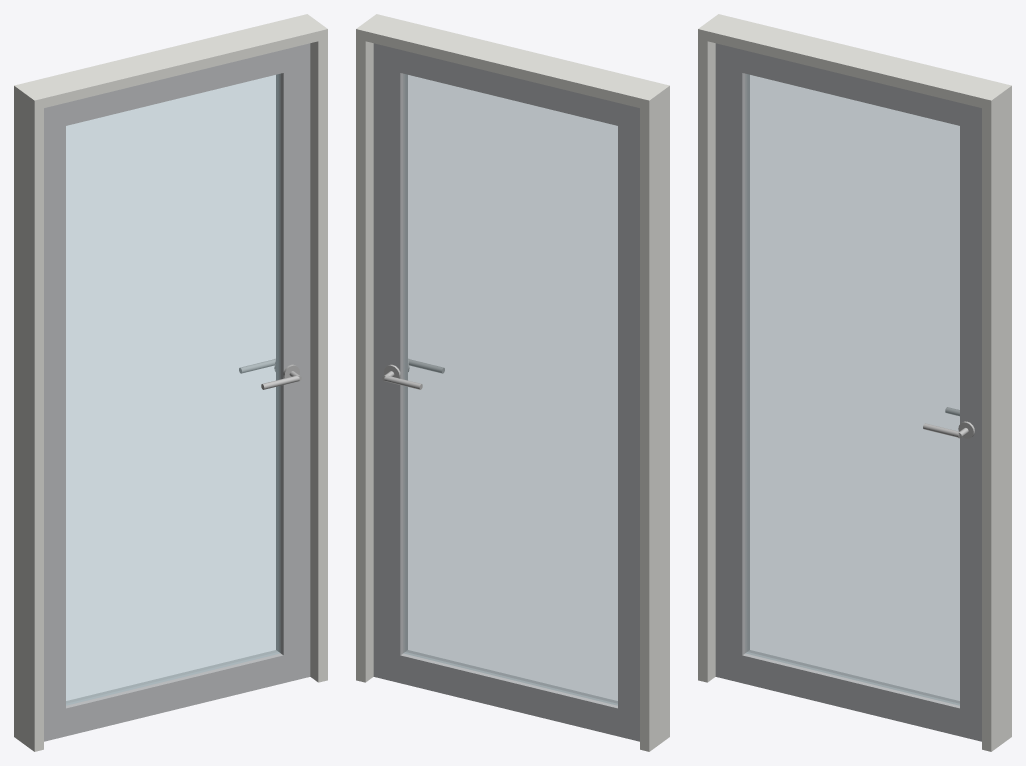
The model's file is opening.door.glazed_single.glb.
3 views of the same model, side by side, from view 1: azimuth 30°, elevation 25°; view 2: azimuth 150°, elevation 25°; view 3: azimuth 330°, elevation 25° (orthographic).
Visible parts, largest first — view 1: leaf__glass, leaf__aluminium, frame__paint_white, ironmongery__steel_stainless; view 2: leaf__glass, leaf__aluminium, frame__paint_white, ironmongery__steel_stainless; view 3: leaf__glass, leaf__aluminium, frame__paint_white, ironmongery__steel_stainless.
Boxes of the visible parts, x1,y1,x2,y2 form: leaf__glass: (66,74,280,705); leaf__aluminium: (44,43,310,741); frame__paint_white: (14,14,327,751); ironmongery__steel_stainless: (239,358,301,389); leaf__glass: (403,74,617,705); leaf__aluminium: (373,43,639,741); frame__paint_white: (356,14,669,751); ironmongery__steel_stainless: (382,358,444,389); leaf__glass: (745,74,959,705); leaf__aluminium: (715,43,981,741); frame__paint_white: (698,14,1011,751); ironmongery__steel_stainless: (923,407,974,438).
Bounding box in the file's own units: 0.99 × 2.1 × 0.148.
